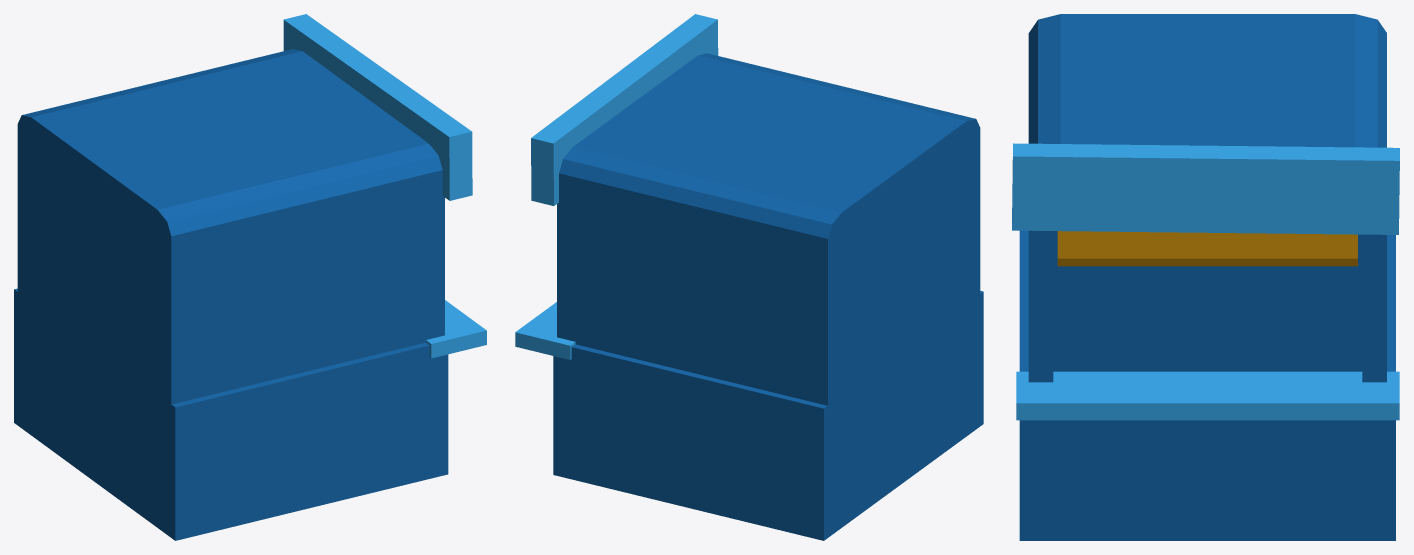
File: barraca2Azul.fbx
3 renders of one model, left to right at view 1: azimuth 30°, elevation 25°; view 2: azimuth 150°, elevation 25°; view 3: azimuth 270°, elevation 25°, orthographic. The views are drawn at different scales.
Parts seen in each view (by area): view 1: barraTres.002; view 2: barraTres.002; view 3: barraTres.002.
Part boxes in pixels (x1,y1,x2,y2): barraTres.002: (14, 14, 486, 540); barraTres.002: (515, 14, 983, 540); barraTres.002: (1012, 14, 1399, 540).
Size of the model in its own units: 193 by 202 by 179.
